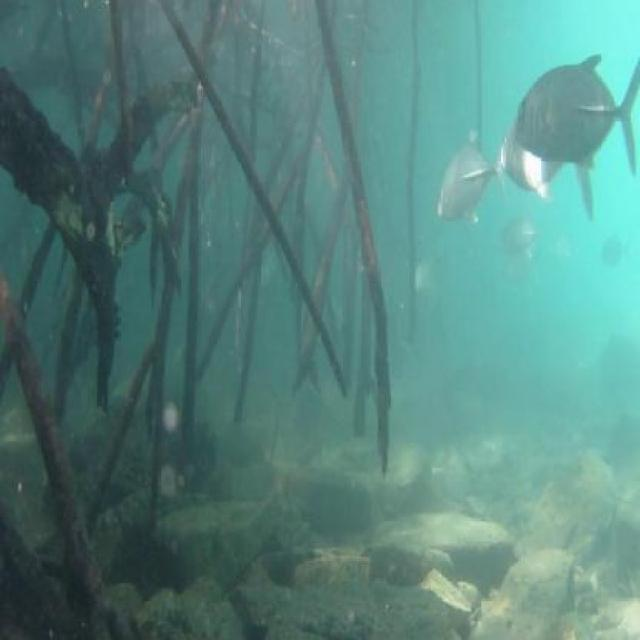Caranx_sexfasciatus_juvenile: (515, 45, 640, 178), (494, 91, 594, 226), (434, 118, 500, 242), (486, 245, 548, 297), (504, 207, 558, 256)
